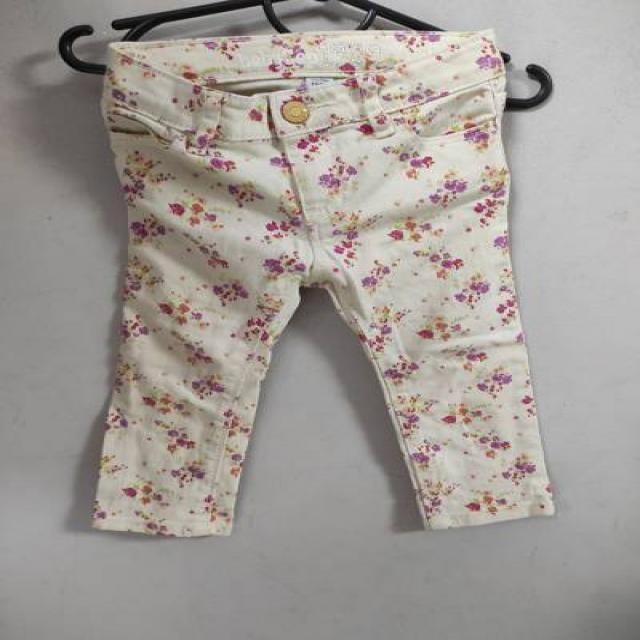Clothes -Biodegradable-: (92, 28, 559, 535)
